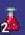potion: (0, 1, 25, 35)
